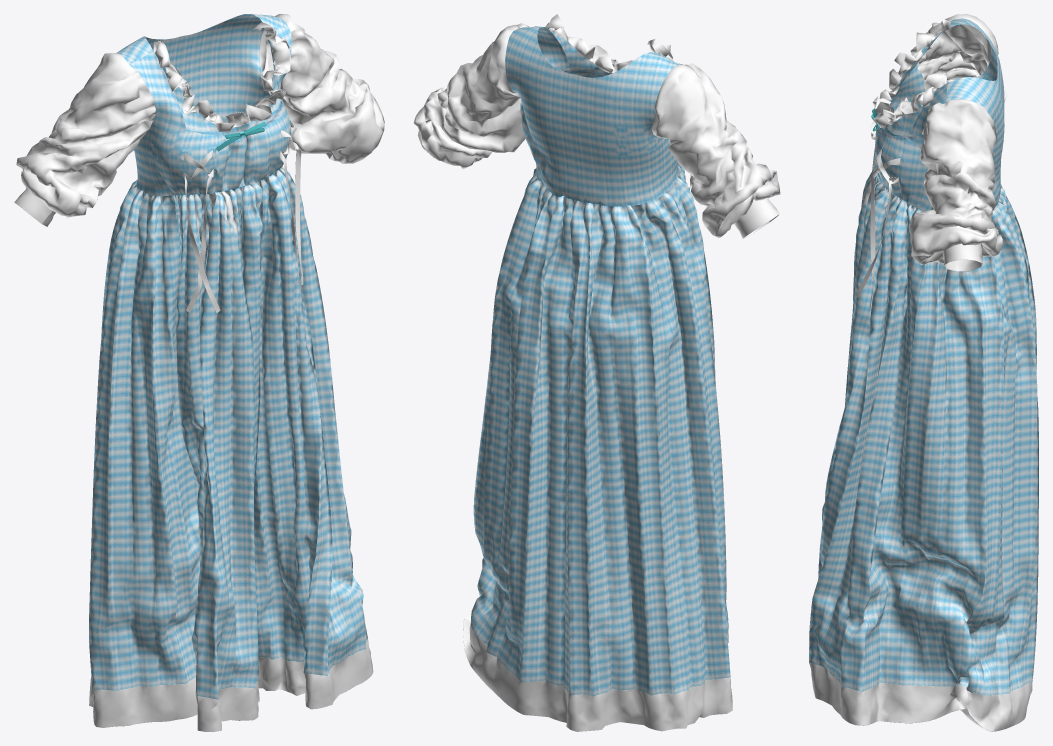
The model's file is asset03.glb.
3 renders of one model, left to right at view 1: azimuth 30°, elevation 25°; view 2: azimuth 150°, elevation 25°; view 3: azimuth 270°, elevation 25°, orthographic. The views are drawn at different scales.
Parts seen in each view (by area): view 1: Dirndl3; view 2: Dirndl3; view 3: Dirndl3.
Part boxes in pixels (<box>): Dirndl3: <box>14,14,384,731</box>; Dirndl3: <box>413,14,780,731</box>; Dirndl3: <box>809,14,1038,731</box>.
Size of the model in its own units: 7.57 by 13.57 by 4.31.
3 materials, 3 textured.
